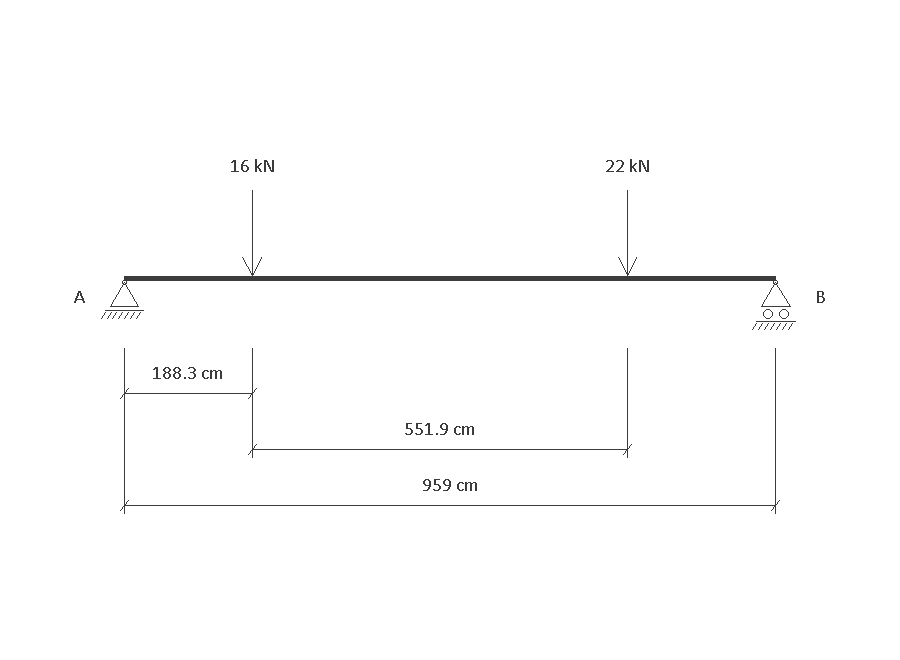pin_support: (101, 280, 144, 319)
point_load: (242, 190, 262, 276), (618, 190, 637, 276)
roller_support: (752, 280, 796, 330)
